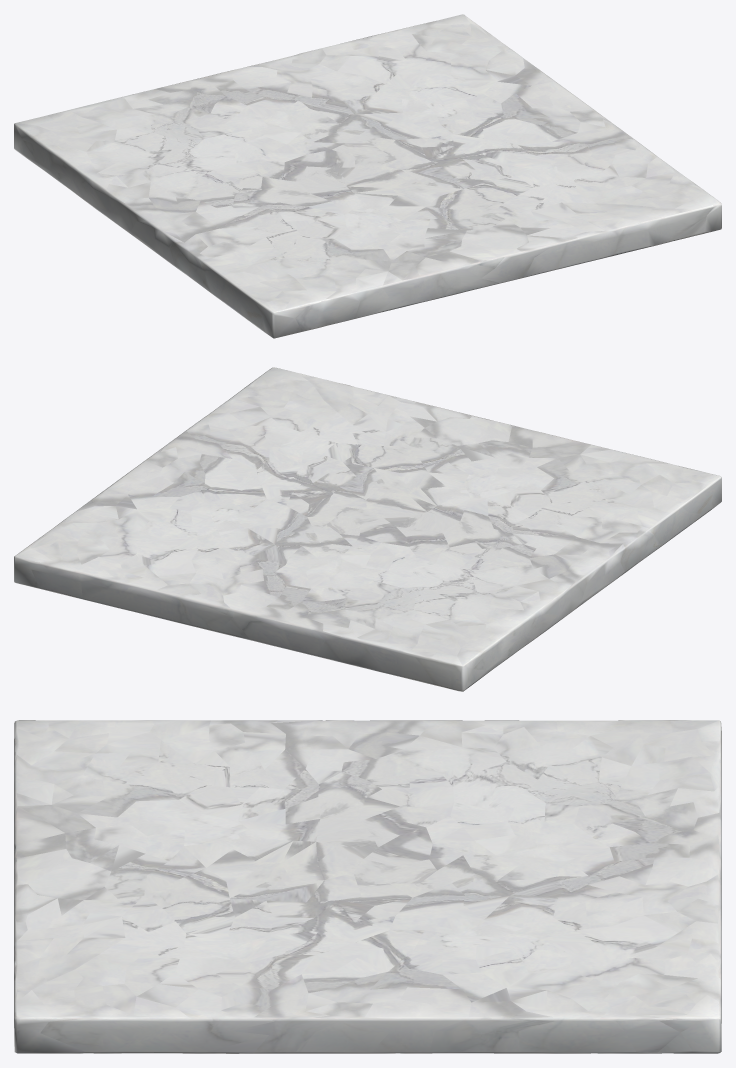
3 renders of one model, top to bottom at view 1: azimuth 30°, elevation 25°; view 2: azimuth 150°, elevation 25°; view 3: azimuth 270°, elevation 25°, orthographic. The views are drawn at different scales.
Visible parts, largest first — view 1: Mesh_0; view 2: Mesh_0; view 3: Mesh_0.
Boxes of the visible parts, box(x1,y1,x2,y2) form: Mesh_0: box(14, 14, 721, 338); Mesh_0: box(14, 367, 721, 691); Mesh_0: box(14, 720, 721, 1053).
Bounding box in the file's own units: 200 × 11.62 × 200.
